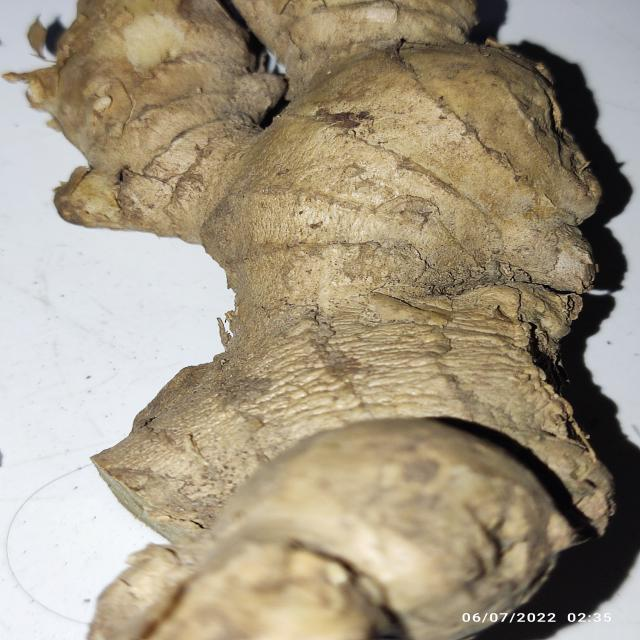ginger: (65, 0, 601, 635)
